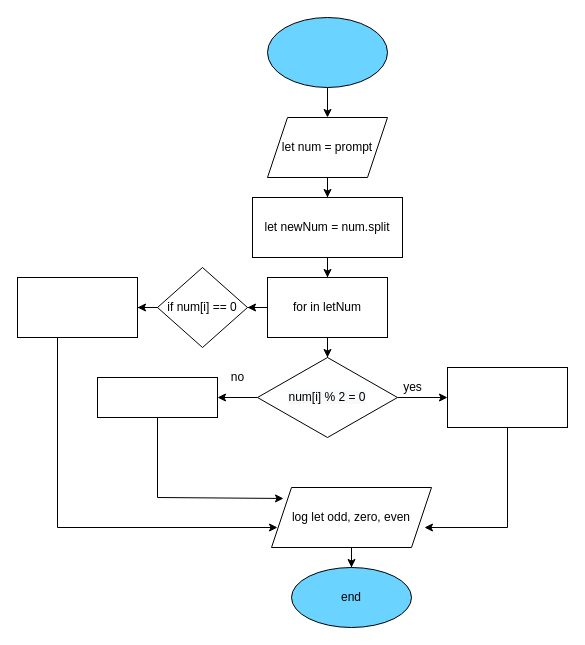
The diagram is 585 pixels wide and 645 high, and some of its shapes have lost their labels. Here are the shapes that lost their labels. From the top down, the centre of each, then its label:
At (x=327, y=52): "start".
At (x=77, y=307): "push result in let zero".
At (x=157, y=397): "push result in let odd".
At (x=507, y=397): "push result in let even".
